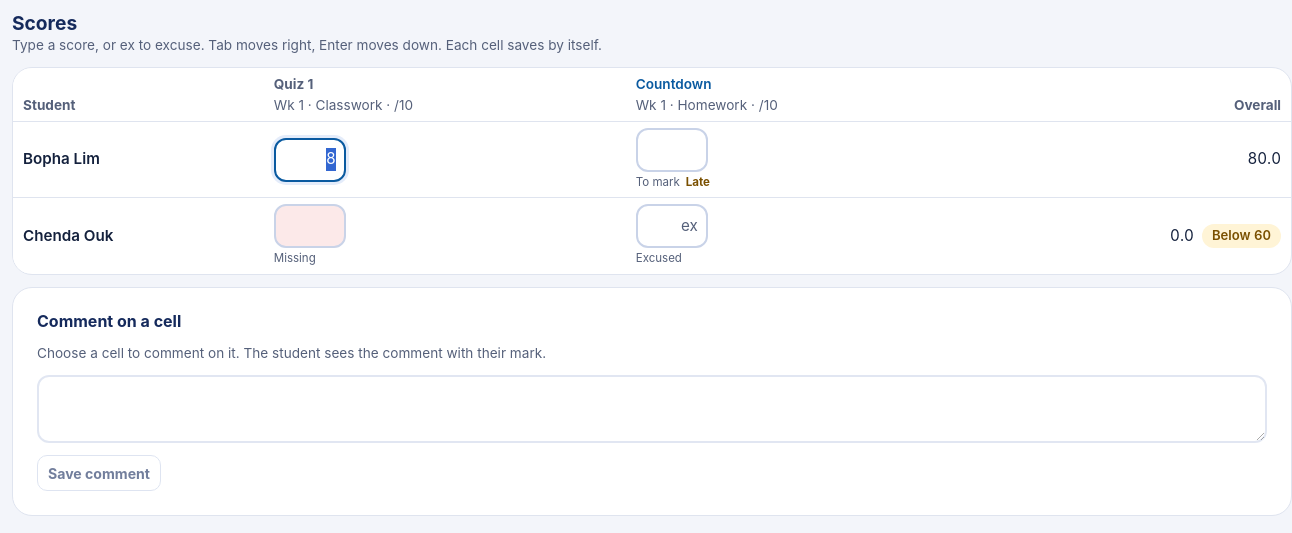
GradebookGrid › Enter saves a changed cell and moves down the column; Shift+Enter moves up
Step 1. Press Enter in the field named "Bopha Lim, Quiz 1 (out of 10)", box [274,138,346,182]
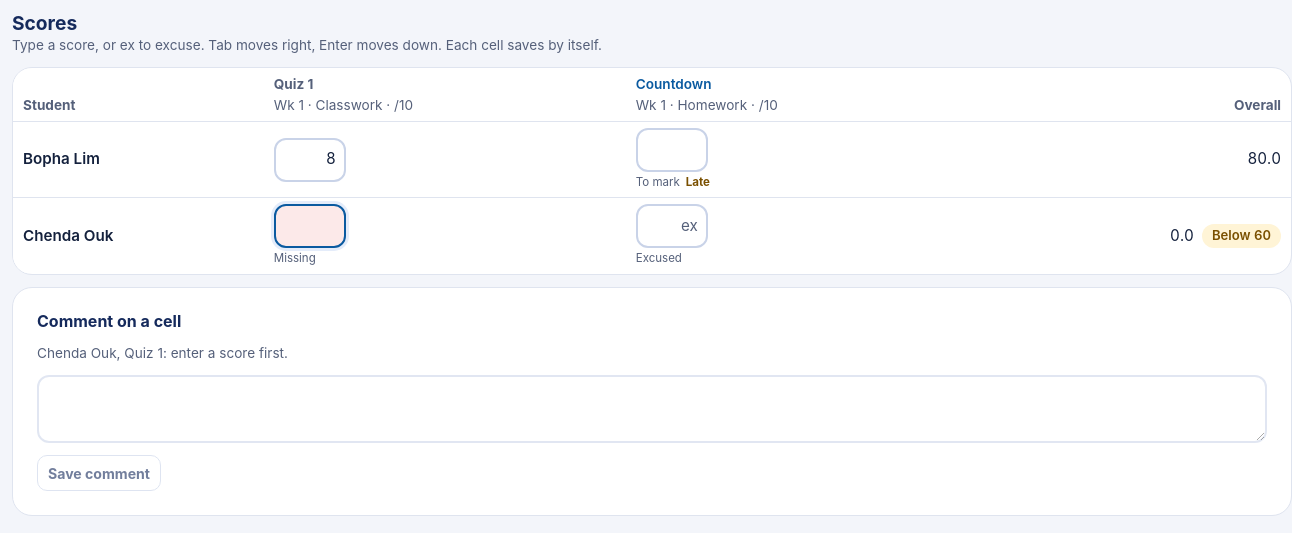
Step 2. Type "6" into the field named "Chenda Ouk, Quiz 1 (out of 10)" → (310, 226), box [274,204,346,248]
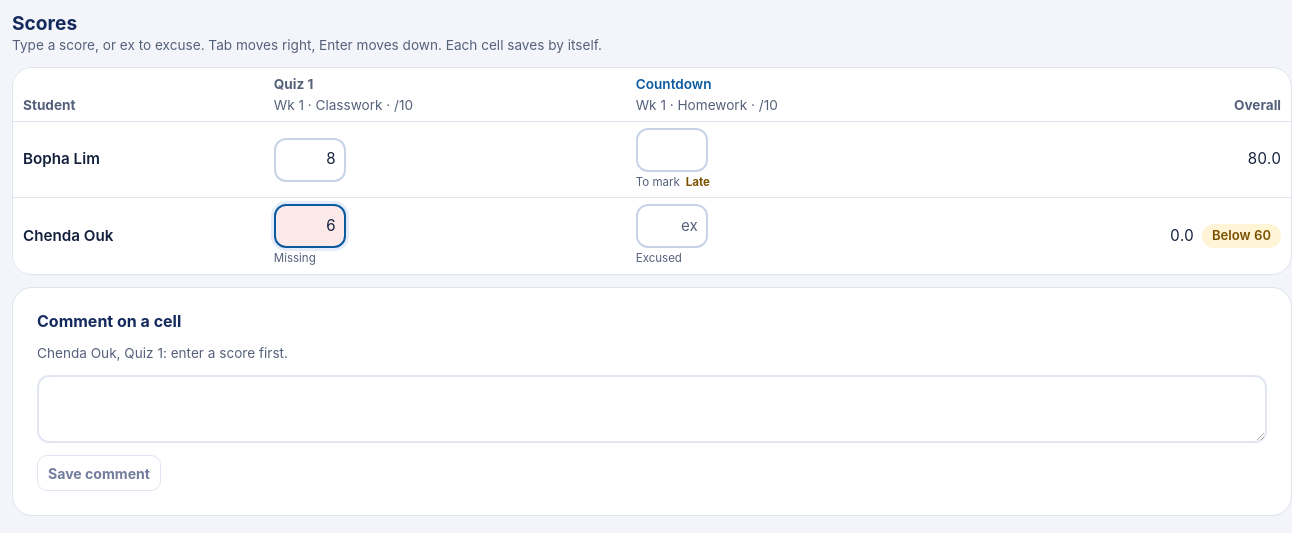
Step 3. Press Enter in the field named "Chenda Ouk, Quiz 1 (out of 10)", box [274,204,346,248]
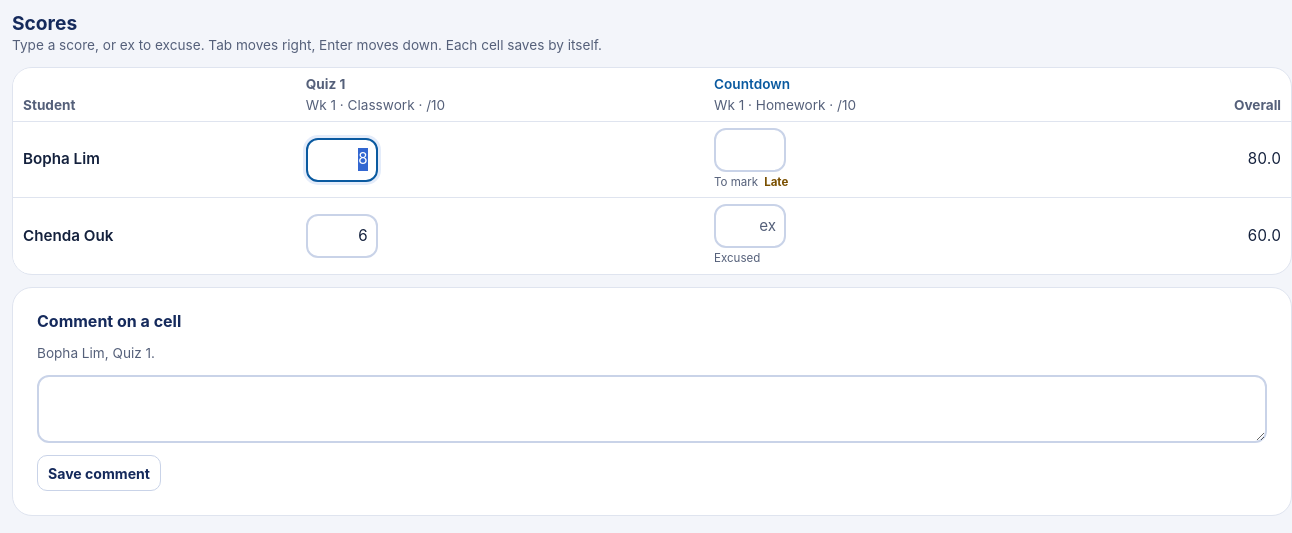
Result: the cell with test id "overall-s2" reads "60.0" at [1247,226,1281,245]
